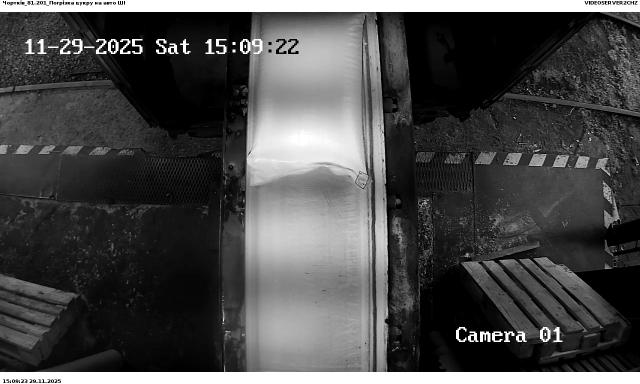bag: (248, 12, 369, 188)
